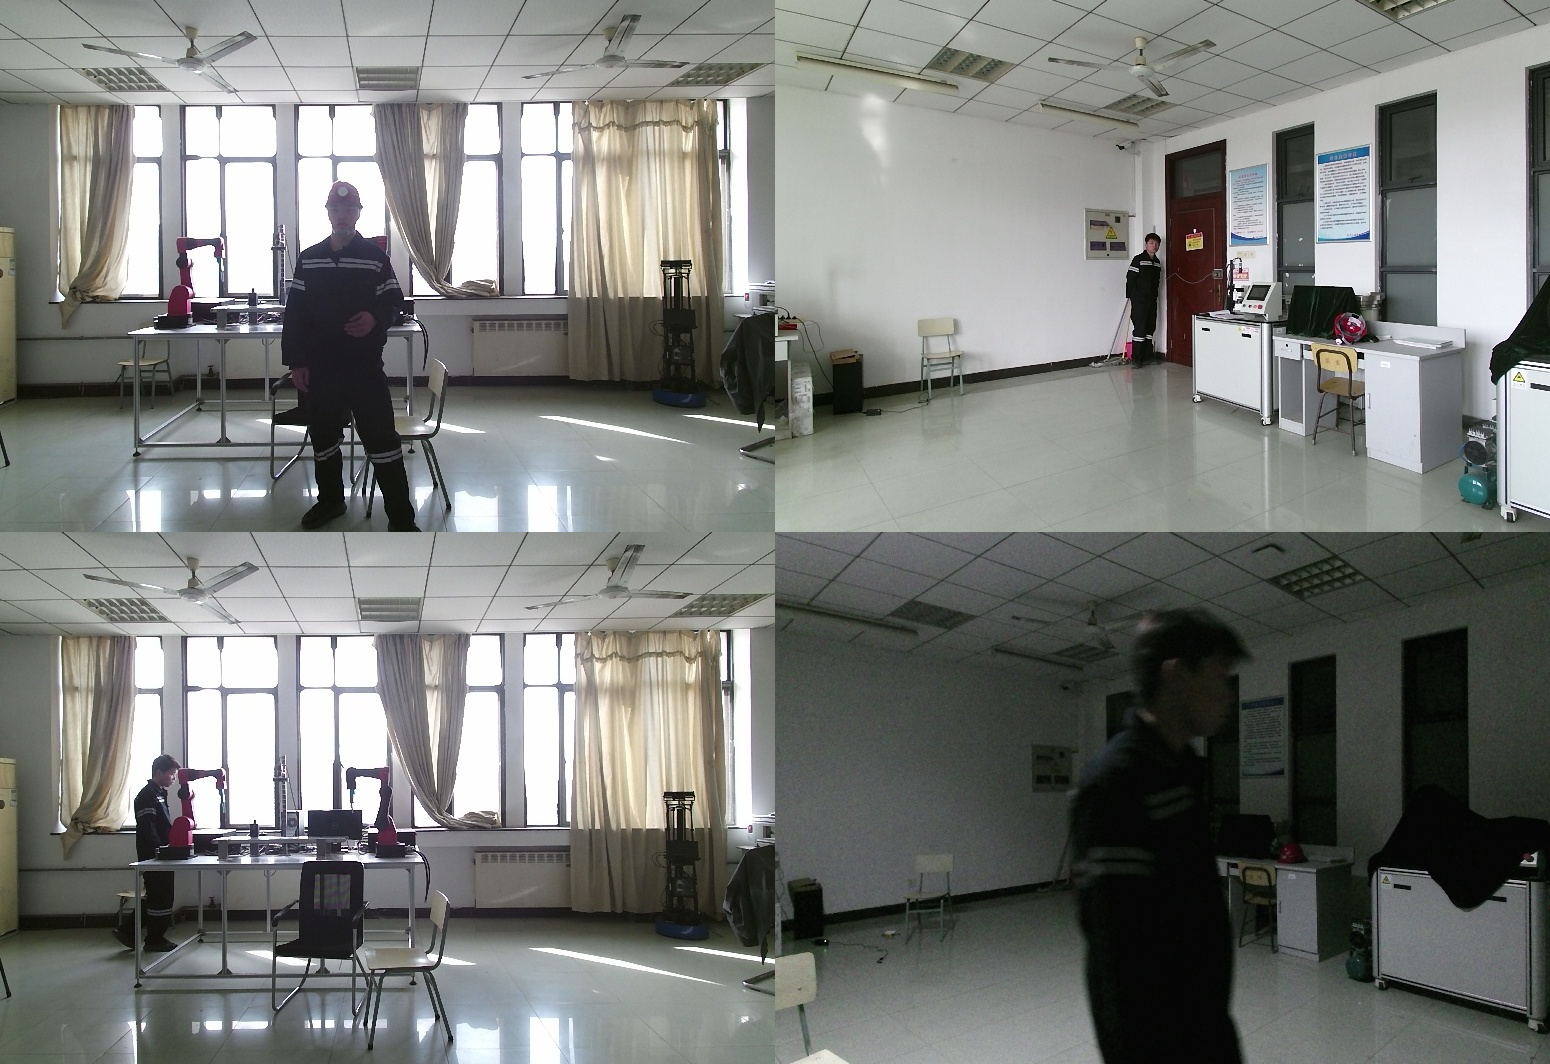person: (1061, 609, 1256, 1064), (283, 182, 417, 532), (118, 753, 193, 959), (1125, 233, 1163, 372)
